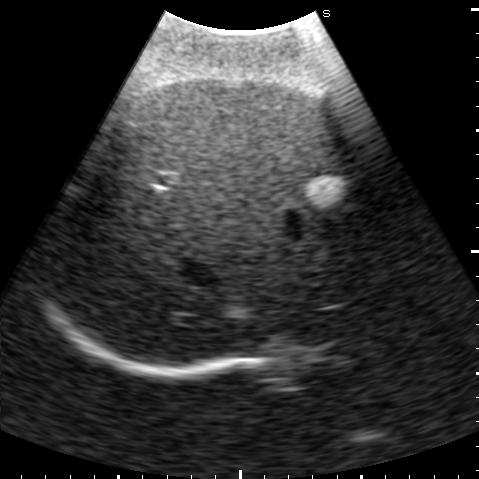S5: (118, 76, 348, 195)
S7: (48, 153, 161, 313)
S8: (105, 192, 378, 367)
Tumor: (304, 176, 346, 206)
